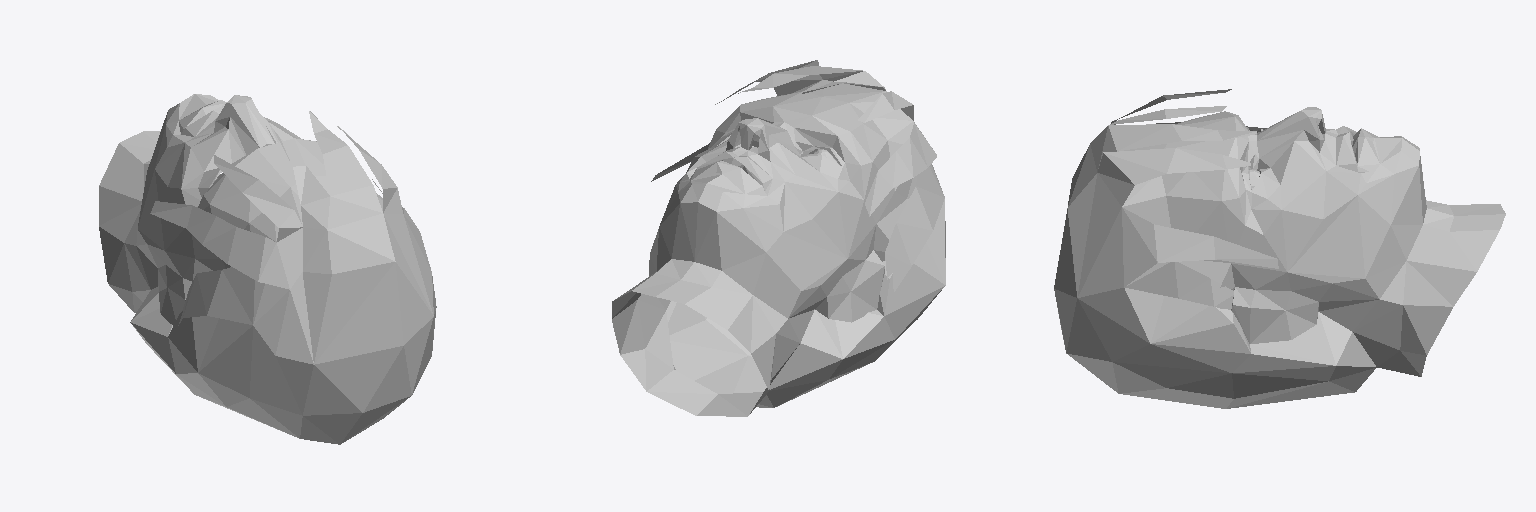
Rendered from tdr_d_kurtis_head.obj.
3 views of the same model, side by side, from view 1: azimuth 30°, elevation 25°; view 2: azimuth 150°, elevation 25°; view 3: azimuth 270°, elevation 25° (orthographic).
Parts seen in each view (by area): view 1: kurtis_cloth_s_part_0_Untitled.013; view 2: kurtis_cloth_s_part_0_Untitled.013; view 3: kurtis_cloth_s_part_0_Untitled.013.
Part boxes in pixels (bbox=[...]): kurtis_cloth_s_part_0_Untitled.013: bbox=[99, 94, 436, 444]; kurtis_cloth_s_part_0_Untitled.013: bbox=[612, 60, 945, 416]; kurtis_cloth_s_part_0_Untitled.013: bbox=[1054, 89, 1505, 408].
Size of the model in its own units: 74.57 by 88.49 by 124.